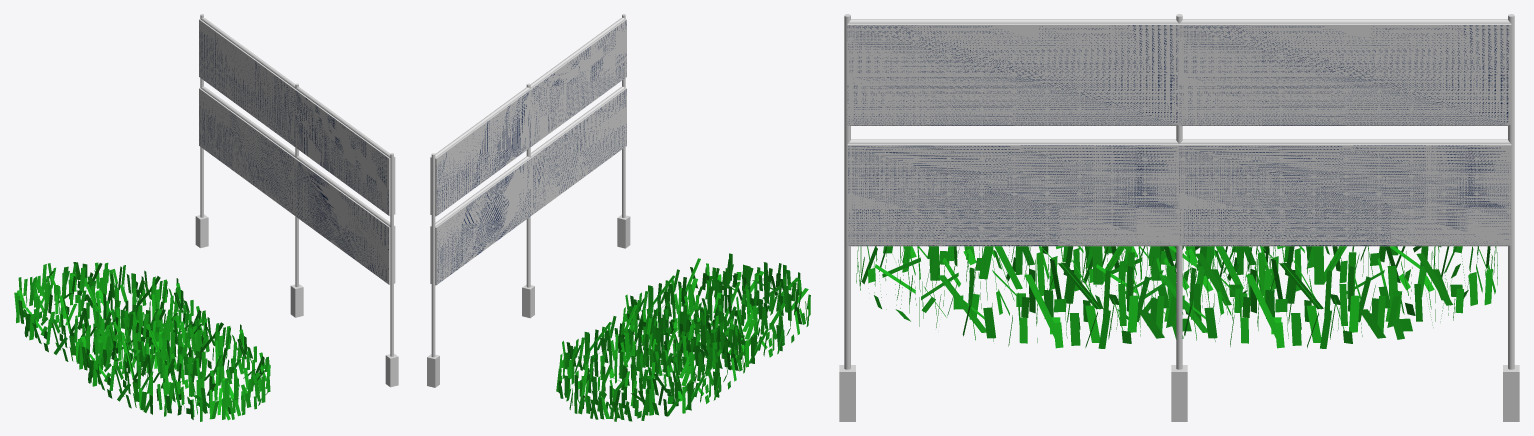
Rendered from verticalSolarGrass1.glb.
3 views of the same model, side by side, from view 1: azimuth 30°, elevation 25°; view 2: azimuth 150°, elevation 25°; view 3: azimuth 270°, elevation 25° (orthographic). The views are drawn at different scales.
Parts seen in each view (by area): view 1: Trava Kolosok.001, Trava Kolosok.004, Panel.003, Panel.004, Panel.002, Panel.005, Cylinder.001, Cube.002, Cube.001, Cylinder.012, Cube.010, Cylinder.003 (+2 smaller); view 2: Trava Kolosok.004, Trava Kolosok.001, Panel.002, Panel.005, Panel.003, Panel.004, Cylinder.005, Cube.001, Cylinder.010, Cylinder.008, Cylinder.003, Cylinder.012 (+3 smaller); view 3: Panel.007, Panel.008, Panel.006, Panel.009, Trava Kolosok.001, Trava Kolosok.004, Cylinder.001, Cylinder.005, Cylinder.012, Cylinder.010, Cylinder.003, Cylinder.008 (+6 smaller).
Boxes of the visible parts, x1=… form: Trava Kolosok.001: x1=77, y1=308, x2=270, y2=421; Trava Kolosok.004: x1=14, y1=262, x2=207, y2=373; Panel.003: x1=294, y1=157, x2=390, y2=284; Panel.004: x1=294, y1=89, x2=390, y2=215; Panel.002: x1=199, y1=19, x2=294, y2=145; Panel.005: x1=199, y1=88, x2=294, y2=214; Cylinder.001: x1=390, y1=153, x2=393, y2=356; Cube.002: x1=195, y1=214, x2=208, y2=248; Cube.001: x1=385, y1=353, x2=398, y2=387; Cylinder.012: x1=295, y1=87, x2=390, y2=157; Cube.010: x1=290, y1=284, x2=303, y2=317; Cylinder.003: x1=295, y1=156, x2=390, y2=226; Trava Kolosok.004: x1=556, y1=300, x2=745, y2=421; Trava Kolosok.001: x1=621, y1=253, x2=810, y2=375; Panel.002: x1=435, y1=89, x2=531, y2=216; Panel.005: x1=435, y1=158, x2=531, y2=285; Panel.003: x1=530, y1=88, x2=626, y2=215; Panel.004: x1=530, y1=19, x2=626, y2=146; Cylinder.005: x1=431, y1=153, x2=435, y2=357; Cube.001: x1=617, y1=215, x2=630, y2=248; Cylinder.010: x1=435, y1=87, x2=529, y2=158; Cylinder.008: x1=435, y1=156, x2=529, y2=227; Cylinder.003: x1=530, y1=86, x2=624, y2=157; Cylinder.012: x1=530, y1=17, x2=624, y2=88; Panel.007: x1=1179, y1=23, x2=1511, y2=125; Panel.008: x1=847, y1=23, x2=1179, y2=125; Panel.006: x1=1179, y1=144, x2=1511, y2=245; Panel.009: x1=847, y1=144, x2=1179, y2=245; Trava Kolosok.001: x1=856, y1=246, x2=1275, y2=348; Trava Kolosok.004: x1=1079, y1=246, x2=1497, y2=348; Cylinder.001: x1=844, y1=14, x2=850, y2=369; Cylinder.005: x1=1508, y1=14, x2=1514, y2=369; Cylinder.012: x1=848, y1=19, x2=1178, y2=23; Cylinder.010: x1=1180, y1=19, x2=1510, y2=23; Cylinder.003: x1=848, y1=139, x2=1178, y2=143; Cylinder.008: x1=1180, y1=139, x2=1510, y2=143.
Size of the model in its own units: 4.27 by 4.04 by 6.15.
Materials: 18 (8 with a texture image).
